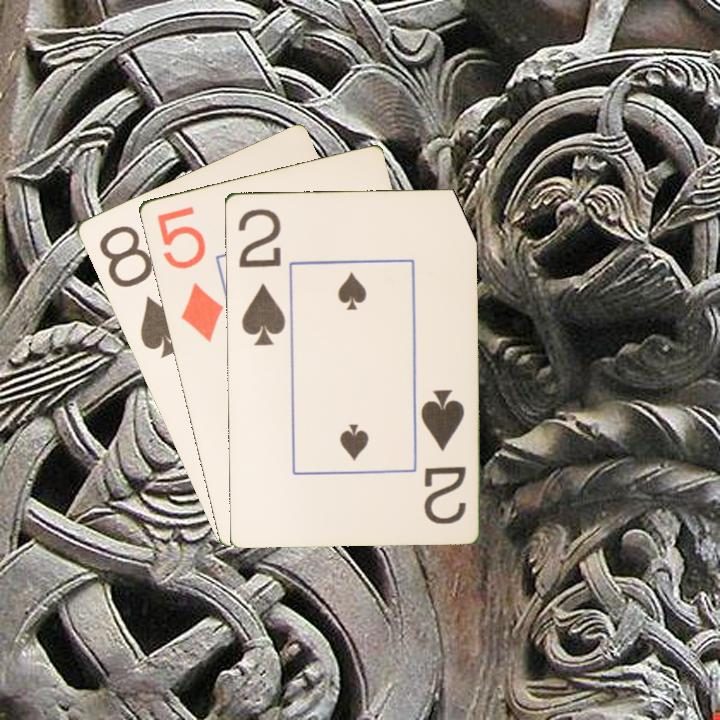2s: (234, 205, 288, 348), (416, 386, 469, 527)
5d: (153, 202, 226, 345)
8s: (94, 221, 187, 361)
